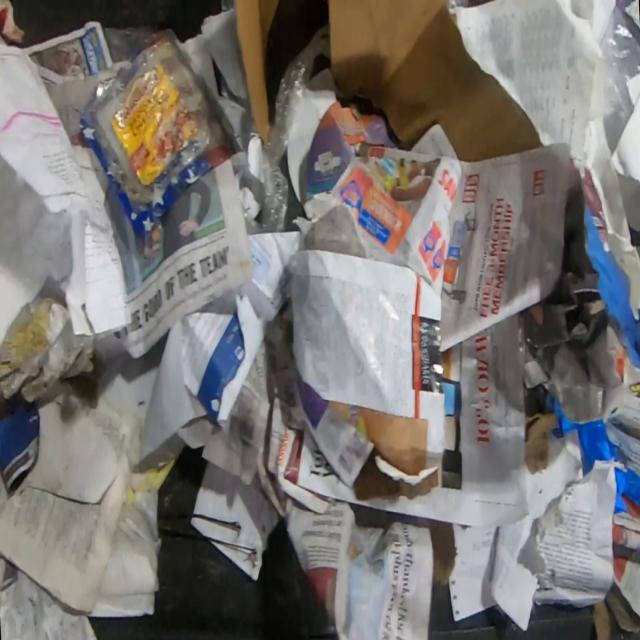cardboard: (326, 0, 544, 163), (323, 399, 438, 504), (552, 396, 640, 513), (581, 205, 640, 370), (233, 0, 281, 145)
soft_plastic: (77, 28, 239, 241), (243, 61, 309, 233), (598, 0, 640, 158)
